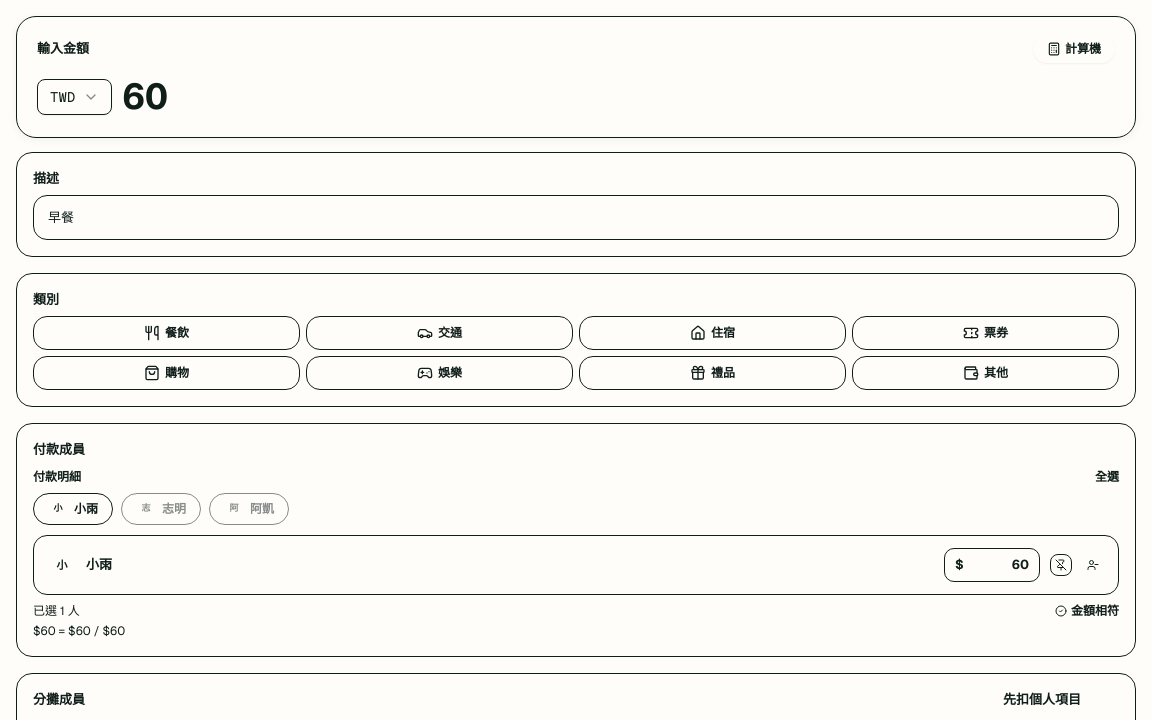
Scenario: QuickItemCard › applies the in-card calculator result and closes it
Click the button with aria-label "開啟計算機": coordinates (1074, 49) [1033,35,1115,63]
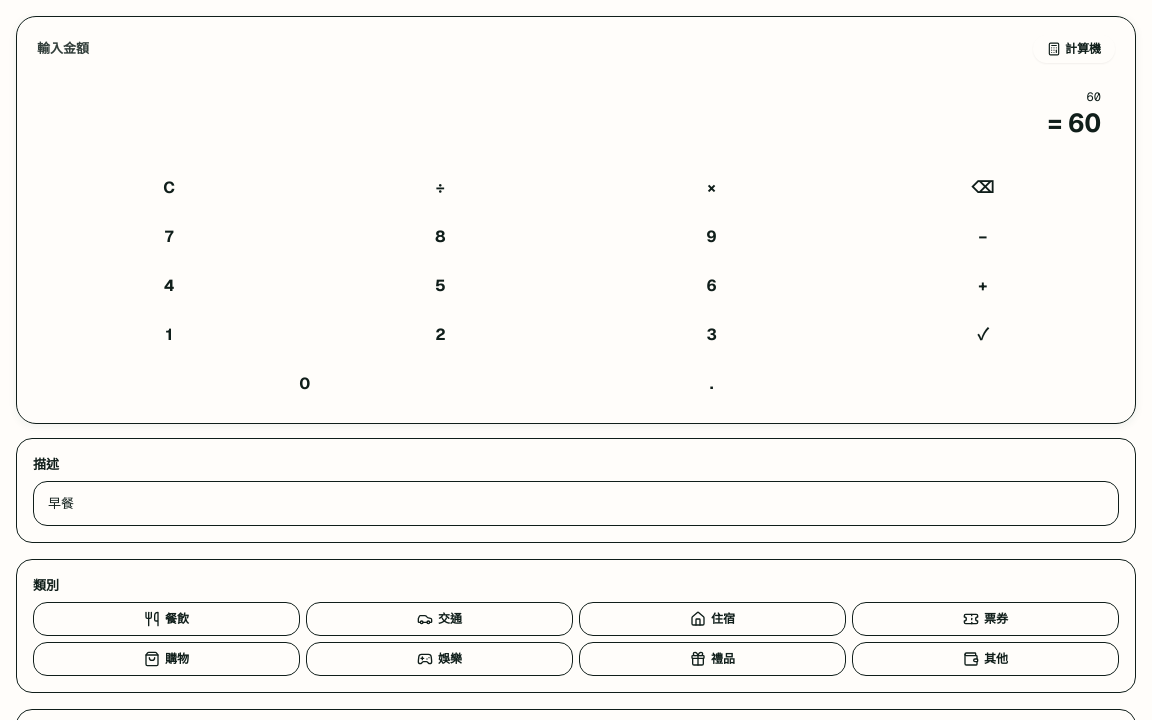
Now the element with test id "calc-display" is shown, box [1048,89,1101,140]
Click the button "C": coordinates (169, 188) [37,167,301,209]
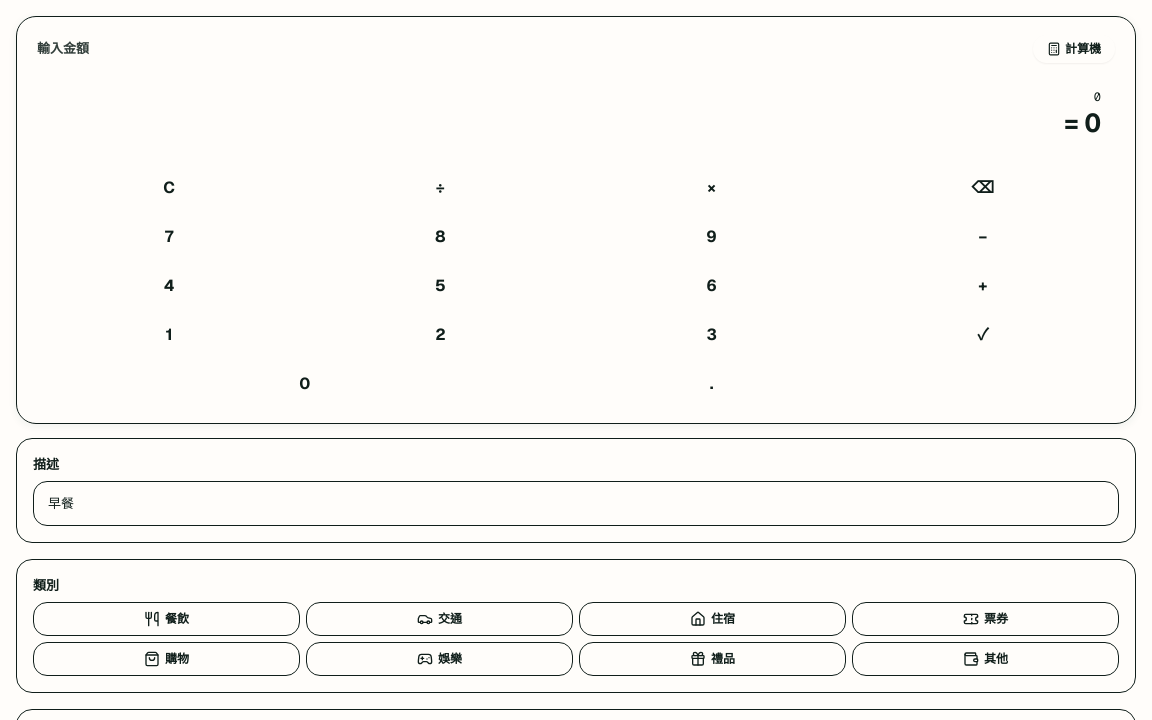
Click the button "9": coordinates (712, 237) [580,216,844,258]
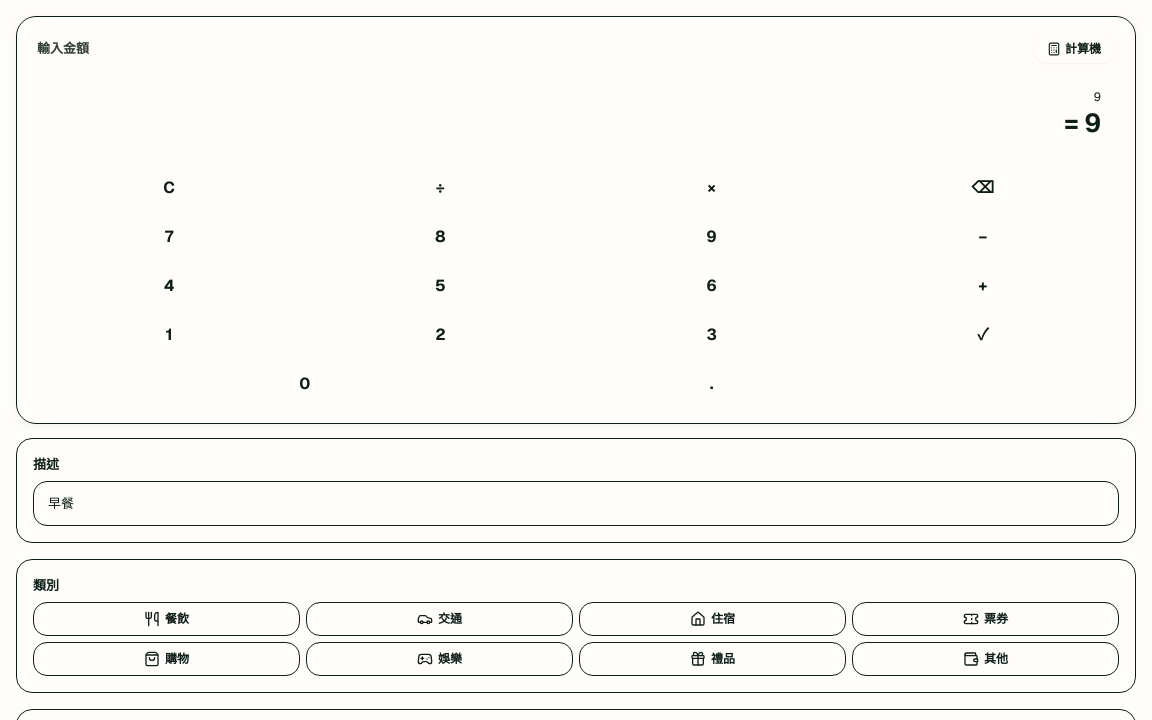
Click the button "✓": coordinates (983, 335) [851,314,1115,356]
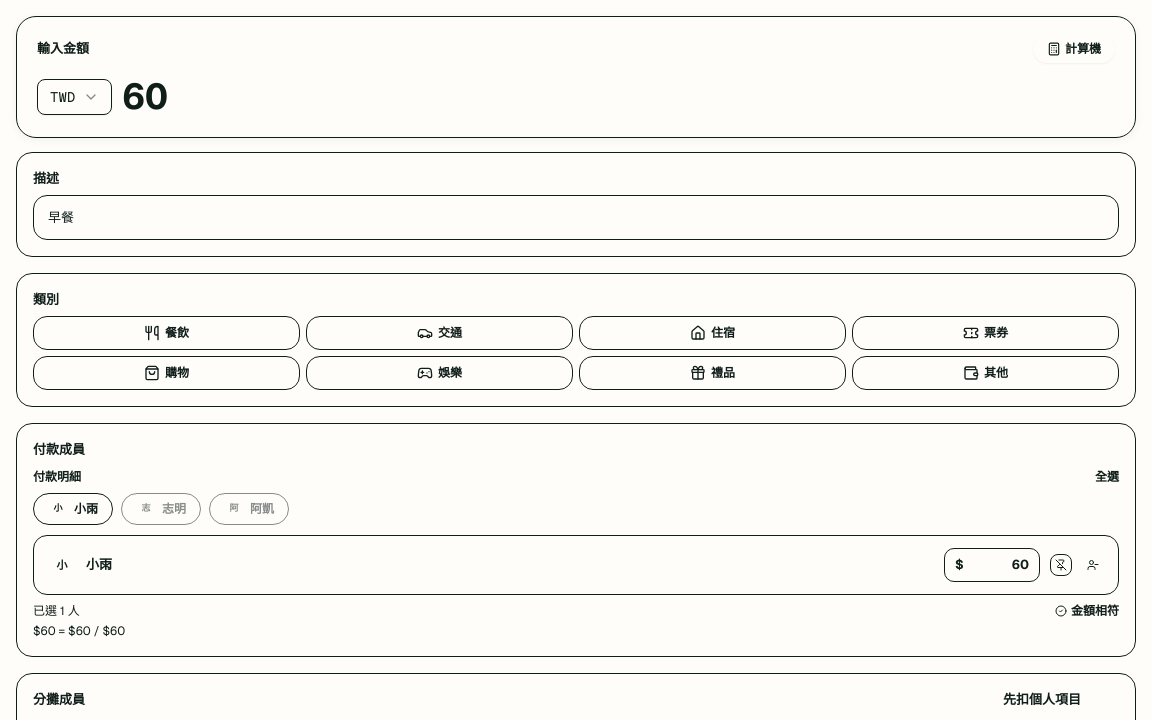
Now the element with test id "calc-display" is gone
